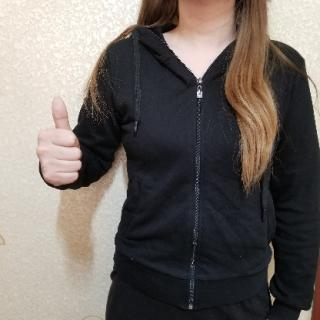ALIF: (32, 90, 89, 190)
